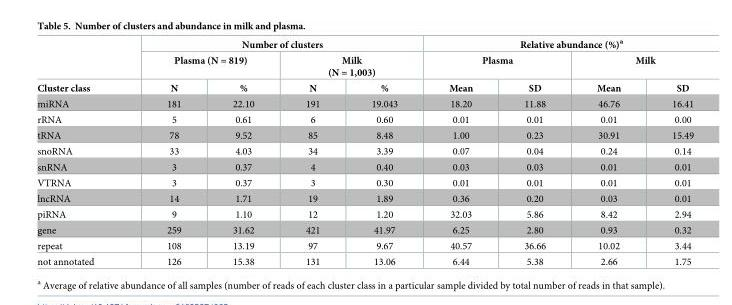table: (36, 37, 692, 266)
table column: (36, 37, 129, 266), (129, 37, 206, 266), (345, 37, 422, 266), (422, 37, 497, 266), (570, 37, 645, 266), (206, 37, 279, 266), (497, 37, 570, 266), (279, 37, 345, 266), (645, 37, 692, 266)
table column header: (36, 37, 692, 95)
table row: (36, 52, 692, 79), (36, 79, 692, 95), (36, 95, 692, 111), (36, 111, 692, 127), (36, 127, 692, 143), (36, 158, 692, 174), (36, 174, 692, 190), (36, 190, 692, 206), (36, 206, 692, 222), (36, 237, 692, 253), (36, 37, 692, 52), (36, 143, 692, 158), (36, 222, 692, 237), (36, 253, 692, 266)
table spanning cell: (36, 37, 129, 95), (129, 37, 422, 52), (422, 37, 692, 52), (129, 52, 279, 79), (422, 52, 570, 79), (279, 52, 422, 79), (570, 52, 692, 79)
